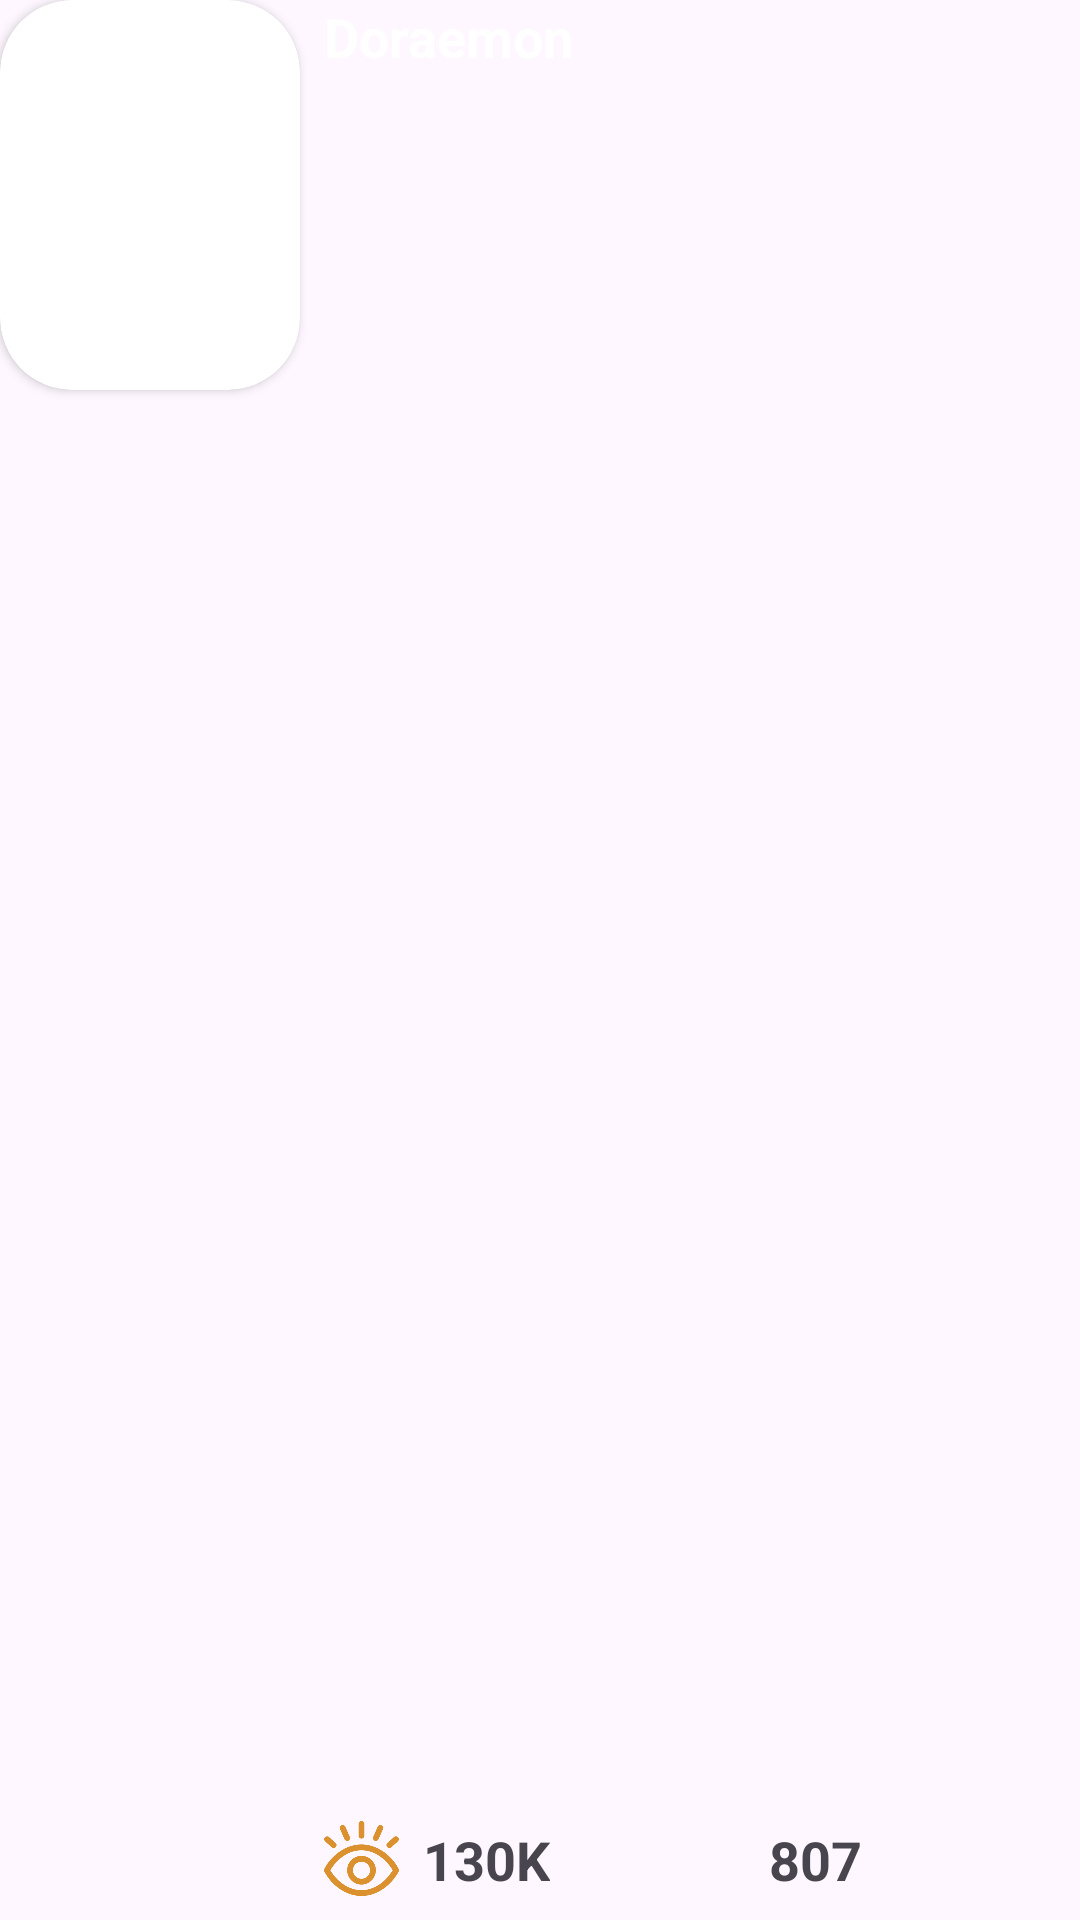

Locate icon controls on the screen. Image size 1080w x 1920h, boxes as (x1, y1, x2, y2).
eye: (324, 1821, 399, 1896)
